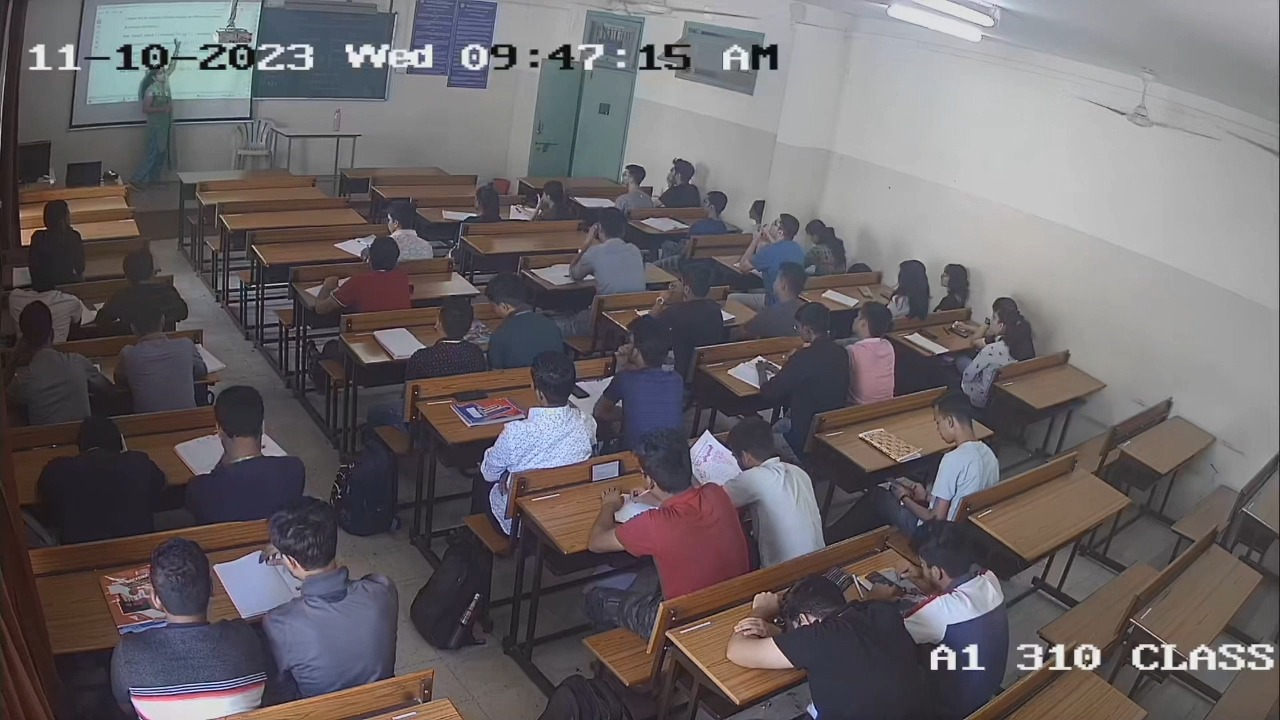cell-phones: (862, 569, 904, 595), (589, 457, 623, 484), (450, 387, 490, 402), (571, 381, 591, 399), (917, 327, 940, 341), (947, 326, 969, 340), (857, 284, 876, 299)
person: (594, 424, 751, 580), (908, 516, 1012, 696), (476, 349, 602, 474), (971, 305, 1031, 366), (887, 260, 933, 316)
